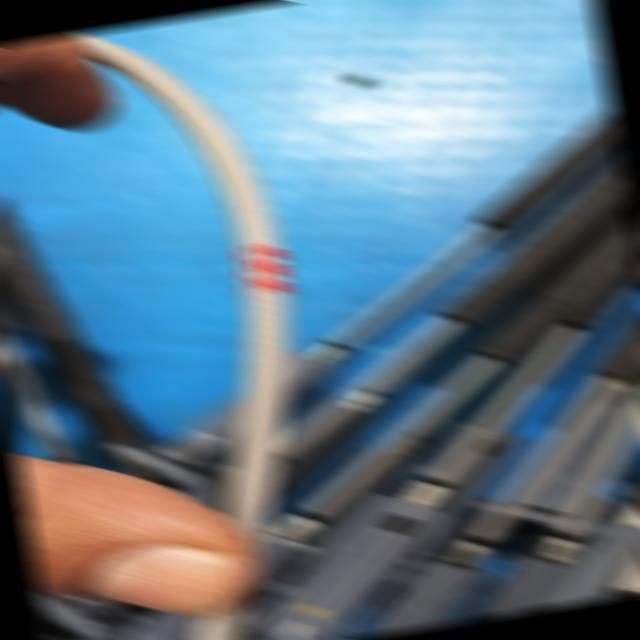red: (234, 242, 289, 301)
